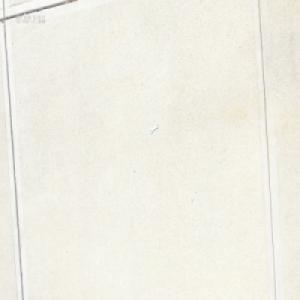Wrench: (150, 122, 158, 133)
